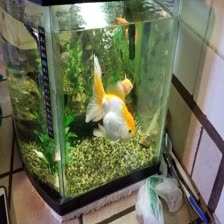Cuezo: (83, 54, 136, 147)
